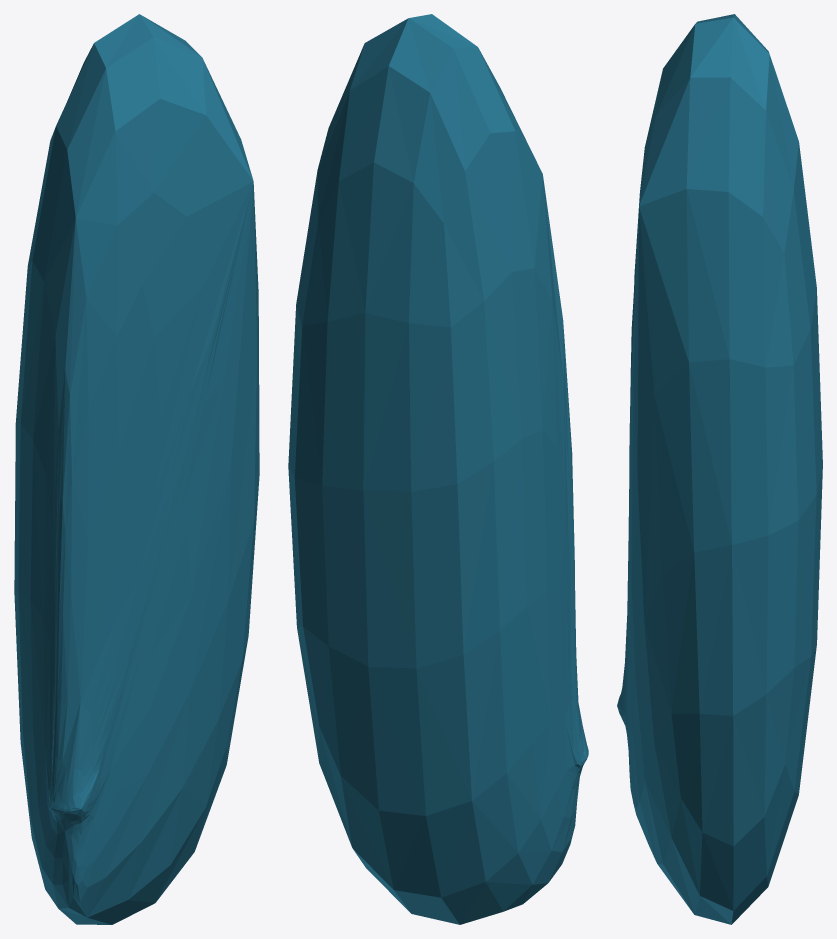
The picture shows the model from 3 angles, left to right: view 1: azimuth 30°, elevation 25°; view 2: azimuth 150°, elevation 25°; view 3: azimuth 270°, elevation 25°; orthographic projection. The views are drawn at different scales.
Visible parts, largest first — view 1: 366_Cube.1496; view 2: 366_Cube.1496; view 3: 366_Cube.1496.
Boxes of the visible parts, x1,y1,x2,y2 form: 366_Cube.1496: [14, 14, 259, 924]; 366_Cube.1496: [288, 14, 588, 924]; 366_Cube.1496: [617, 14, 822, 924].
Size of the model in its own units: 3.09 by 10.85 by 2.22.
